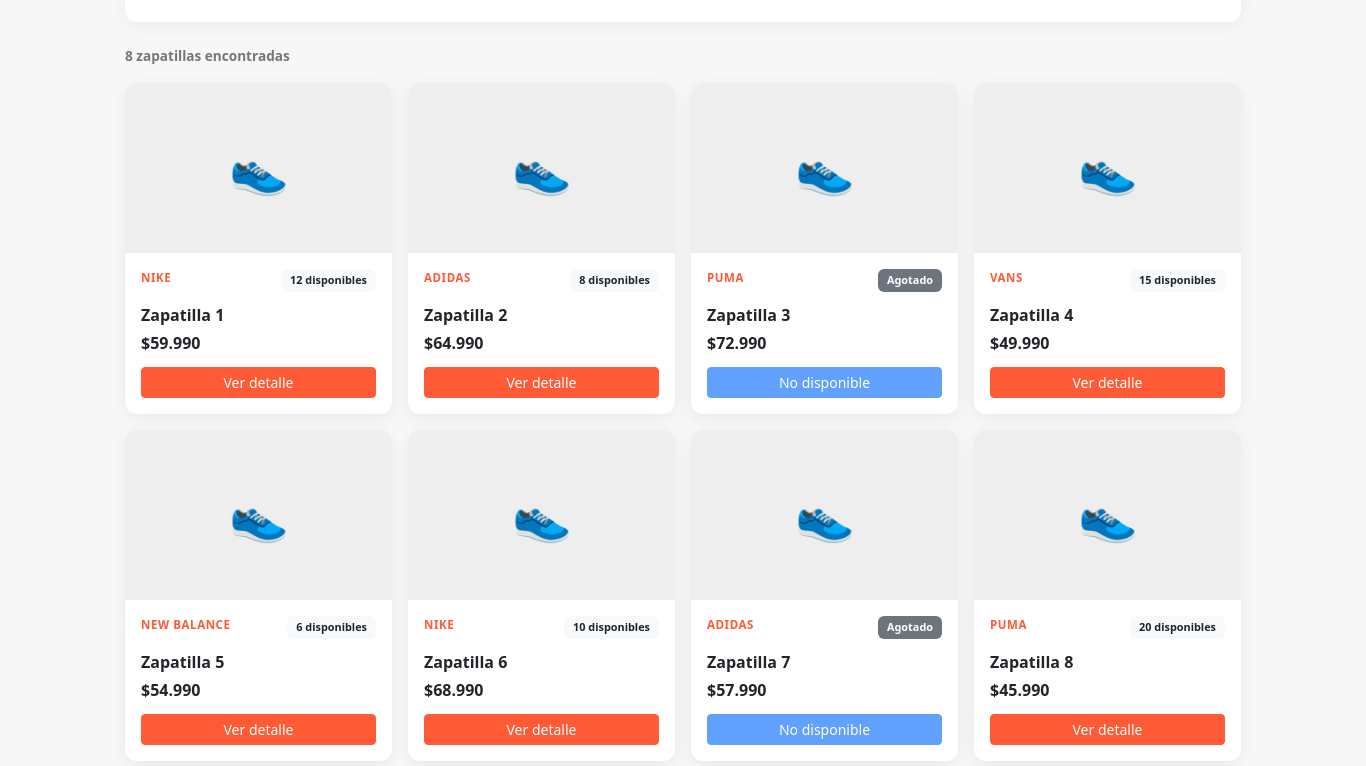
Test: App › pide iniciar sesión antes de pagar
(page scrolled)
Click the button "Ver detalle" below "$59.990": click(258, 382) x1=141 y1=367 x2=376 y2=398
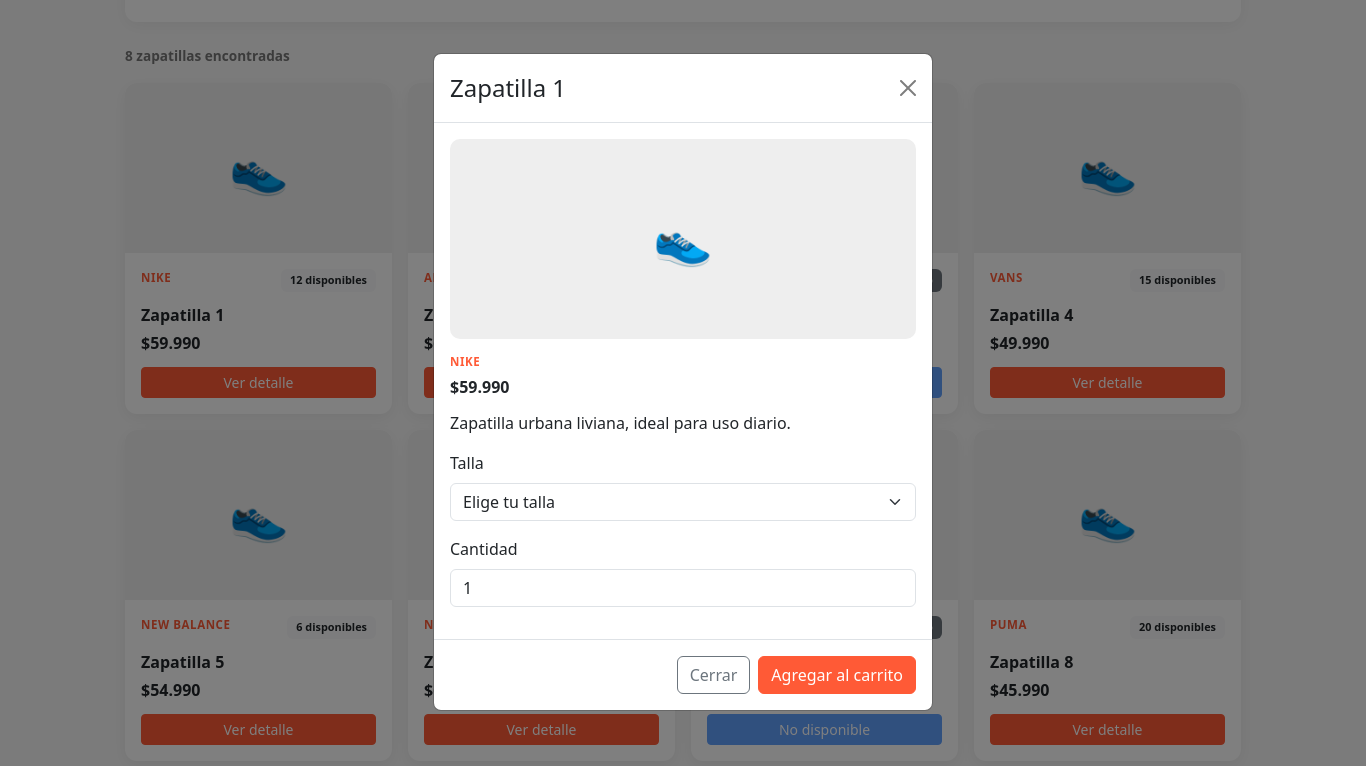
Select "39" in the dropdown labelled "Talla": (683, 502) x1=450 y1=483 x2=916 y2=521
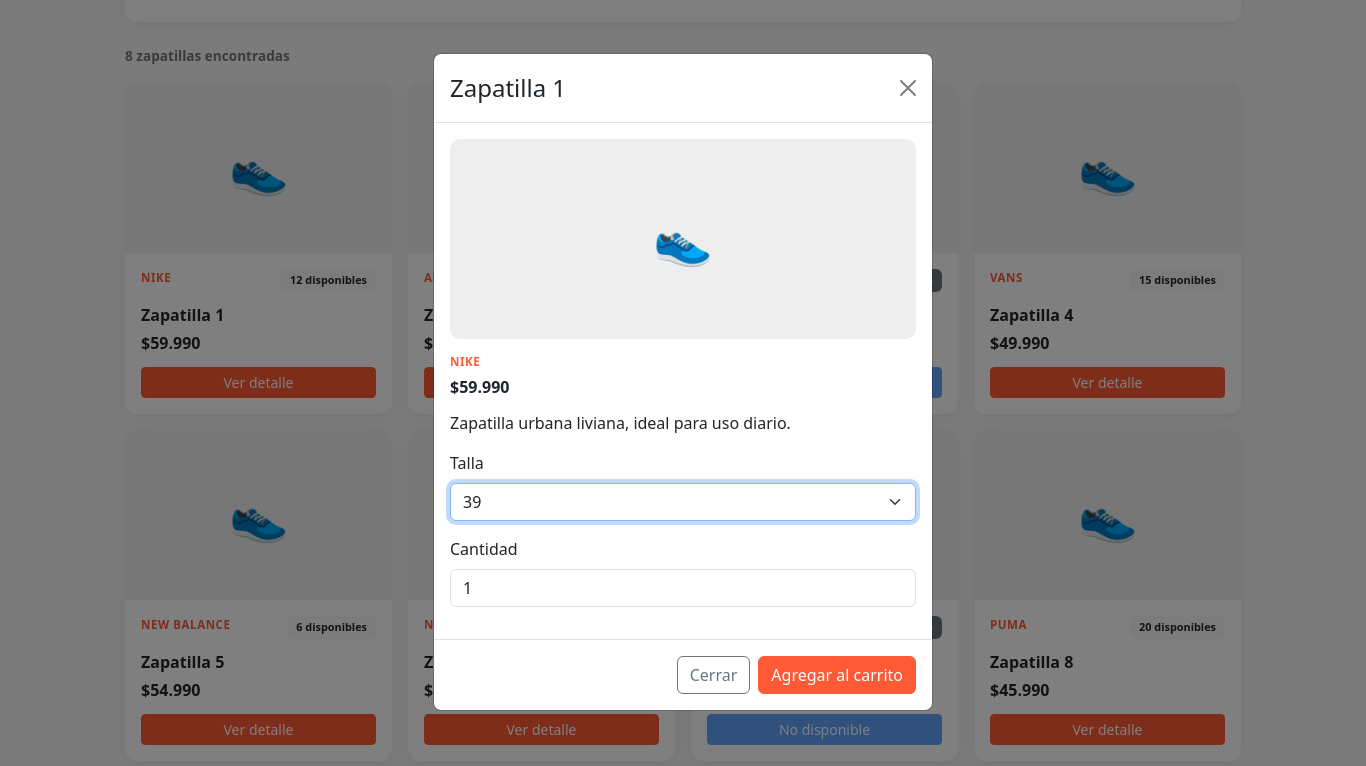
Click the button "Agregar al carrito": click(837, 675) x1=758 y1=656 x2=916 y2=694
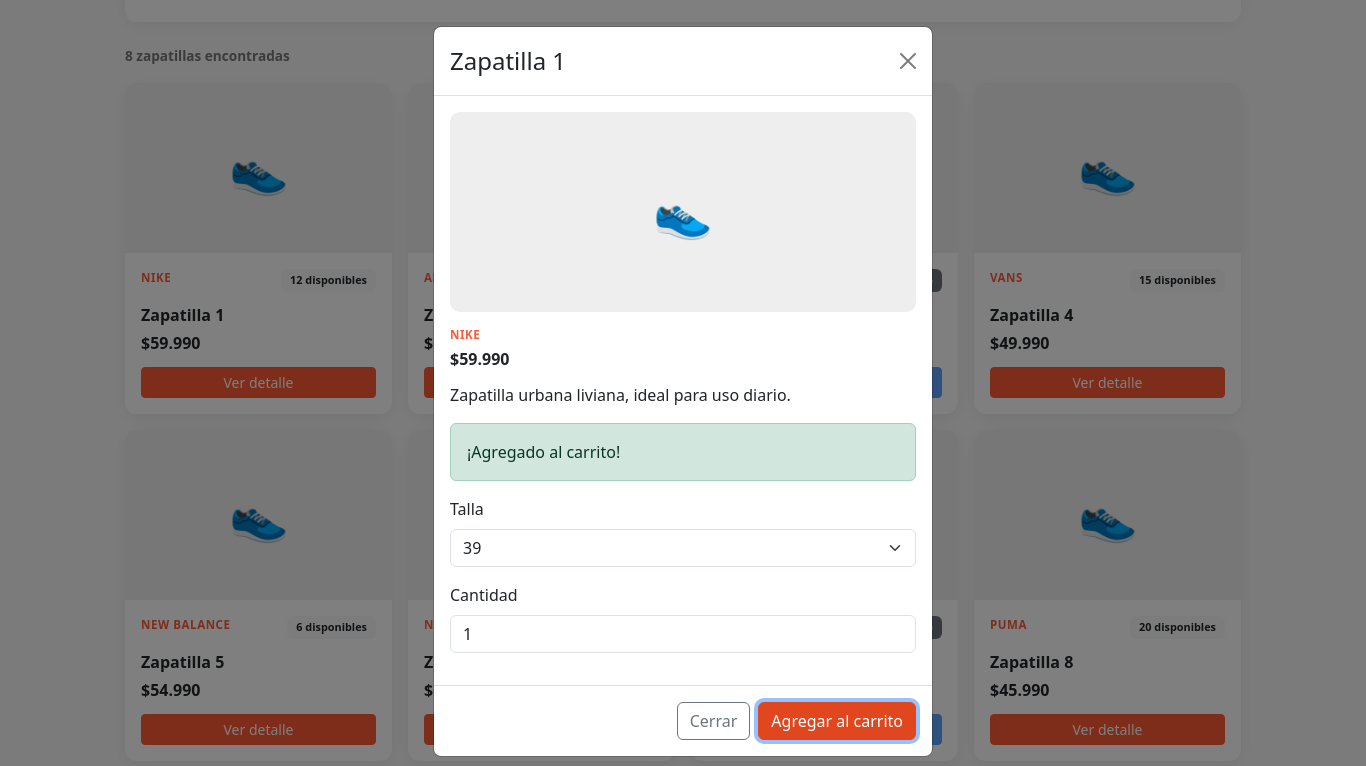
Click the button "Cerrar": click(714, 721) x1=677 y1=702 x2=750 y2=740
(page scrolled)
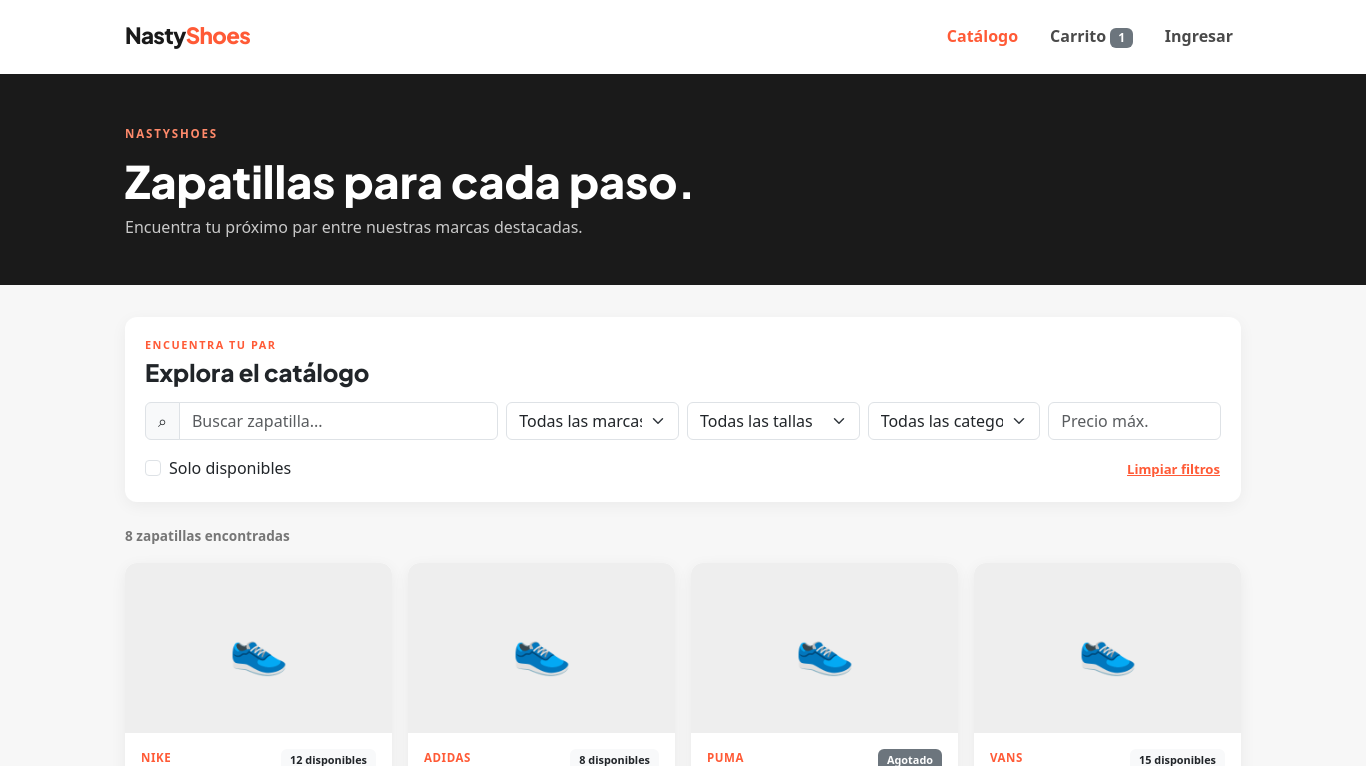
Click the button "Carrito 1": click(1092, 36) x1=1050 y1=25 x2=1133 y2=48
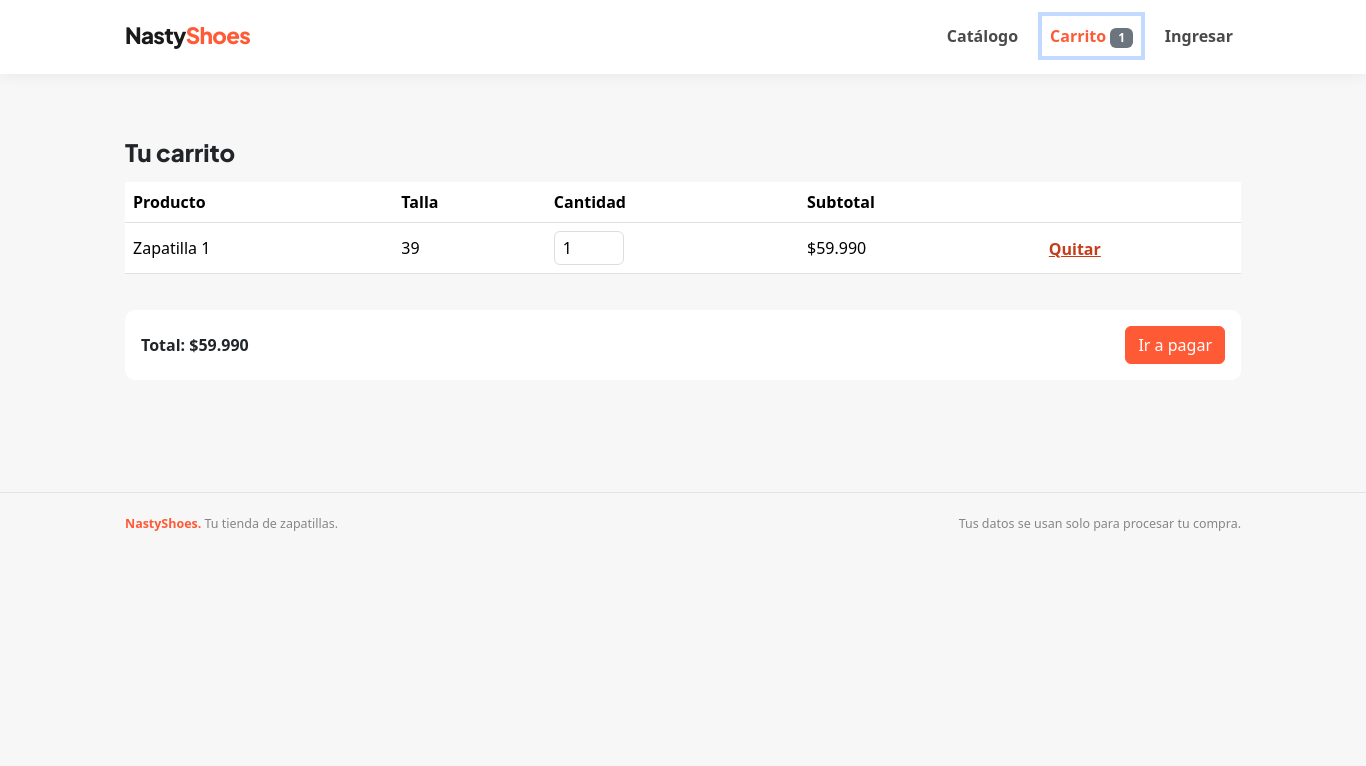
Click the button "Ir a pagar": click(1175, 345) x1=1125 y1=326 x2=1225 y2=364
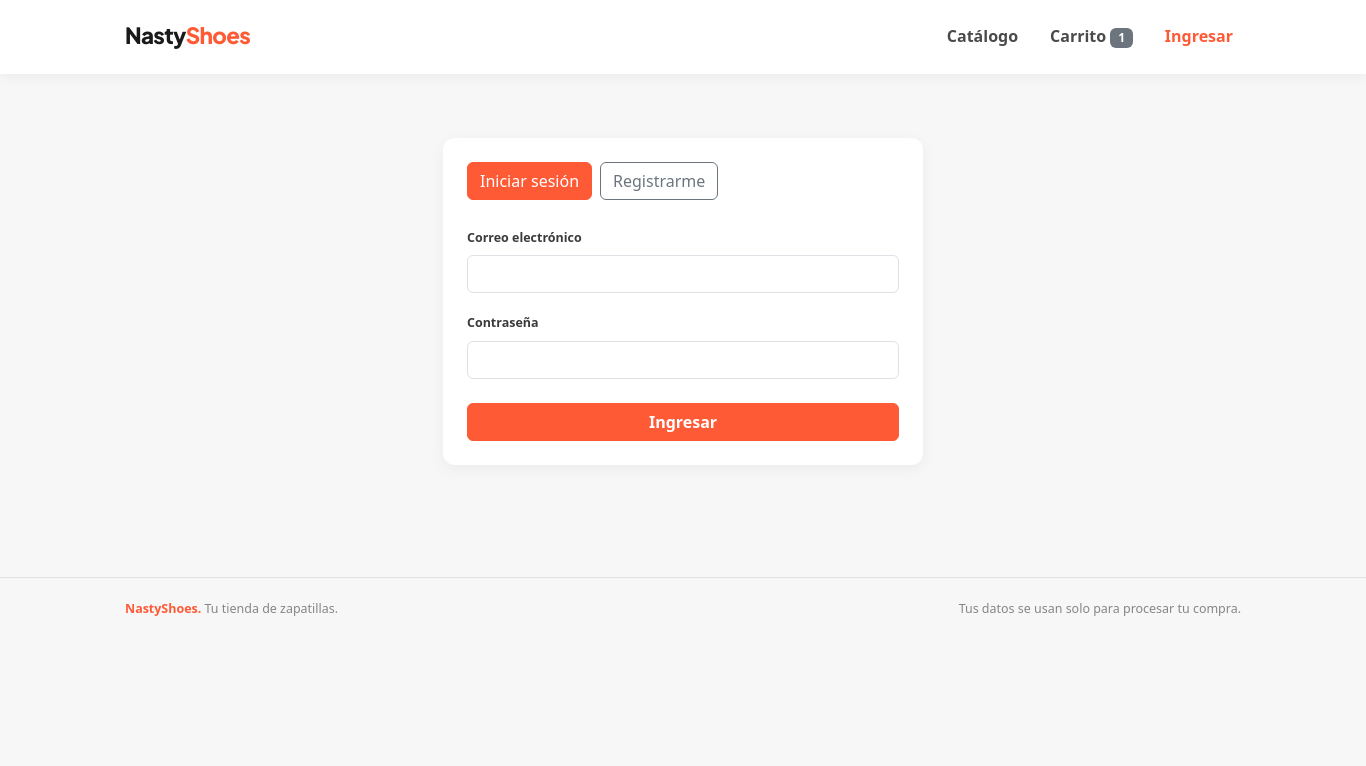
Check: the field labelled "Correo electrónico" is shown, box x1=467 y1=255 x2=899 y2=293
